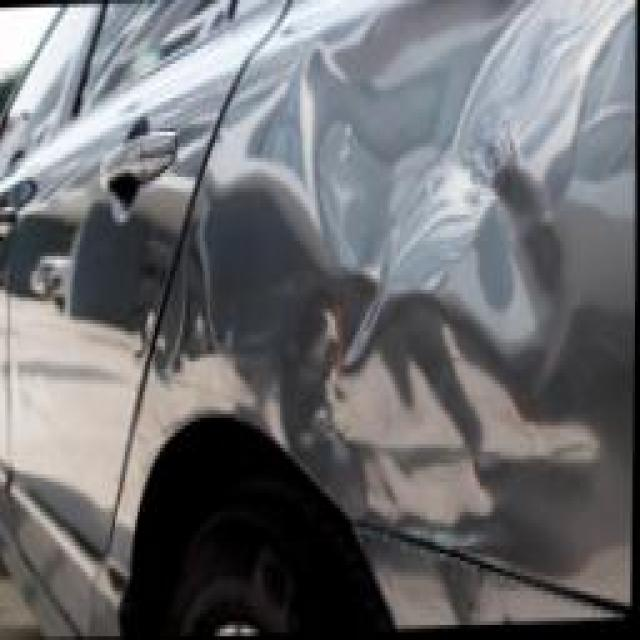Fender: (173, 46, 609, 599)
